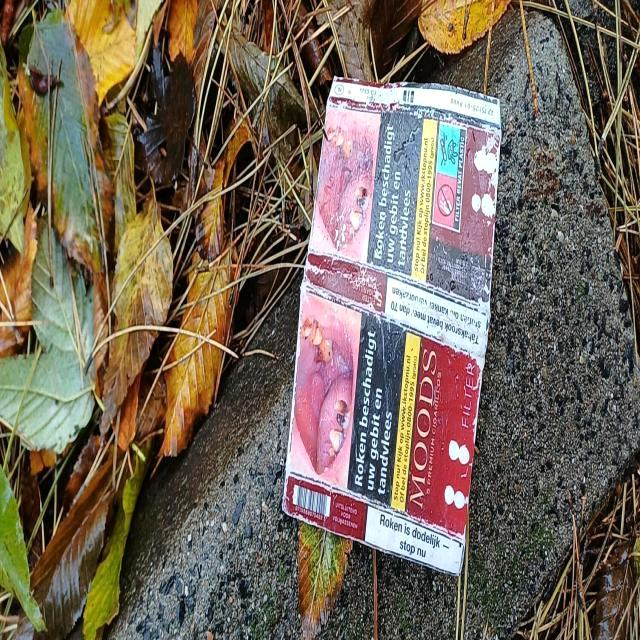Paper: (278, 64, 504, 584)
